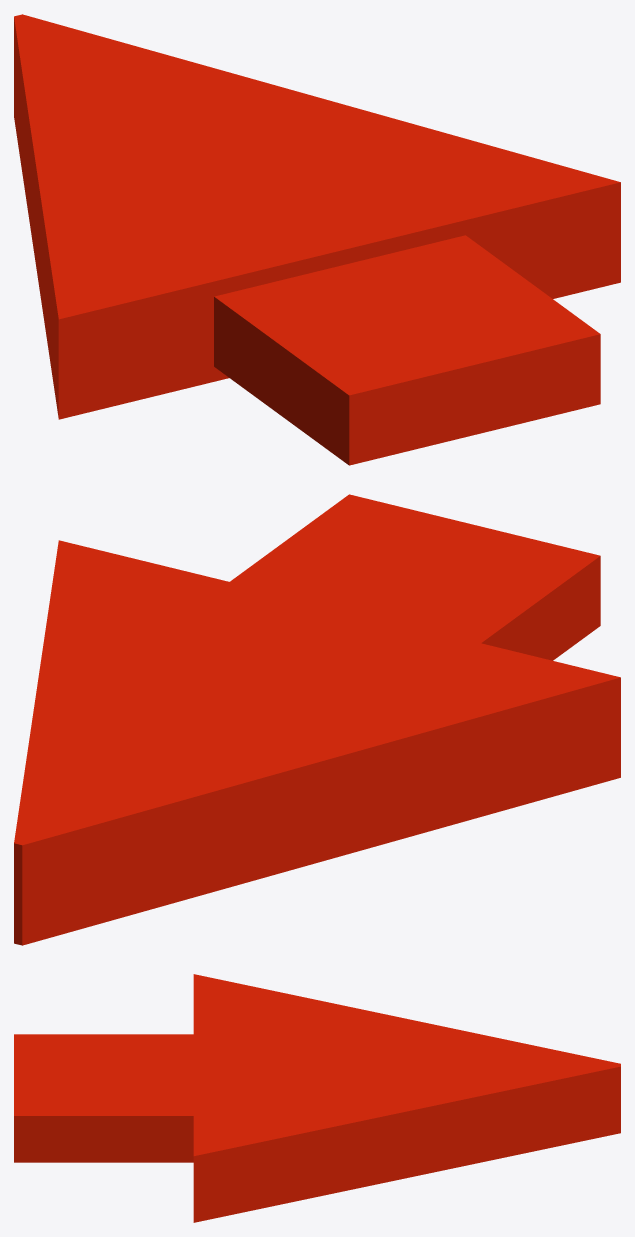
Rendered from angle.glb.
The picture shows the model from 3 angles, top to bottom: view 1: azimuth 30°, elevation 25°; view 2: azimuth 150°, elevation 25°; view 3: azimuth 270°, elevation 25°; orthographic projection. The views are drawn at different scales.
Parts seen in each view (by area): view 1: Cube.002, Cube.001; view 2: Cube.002, Cube.001; view 3: Cube.002, Cube.001.
Part boxes in pixels (bbox=[...]): Cube.002: bbox=[14, 14, 620, 419]; Cube.001: bbox=[214, 235, 600, 465]; Cube.002: bbox=[14, 540, 620, 945]; Cube.001: bbox=[230, 494, 600, 660]; Cube.002: bbox=[193, 974, 620, 1222]; Cube.001: bbox=[14, 1034, 193, 1162].
Size of the model in its own units: 0.9913 by 0.169 by 1.39.
